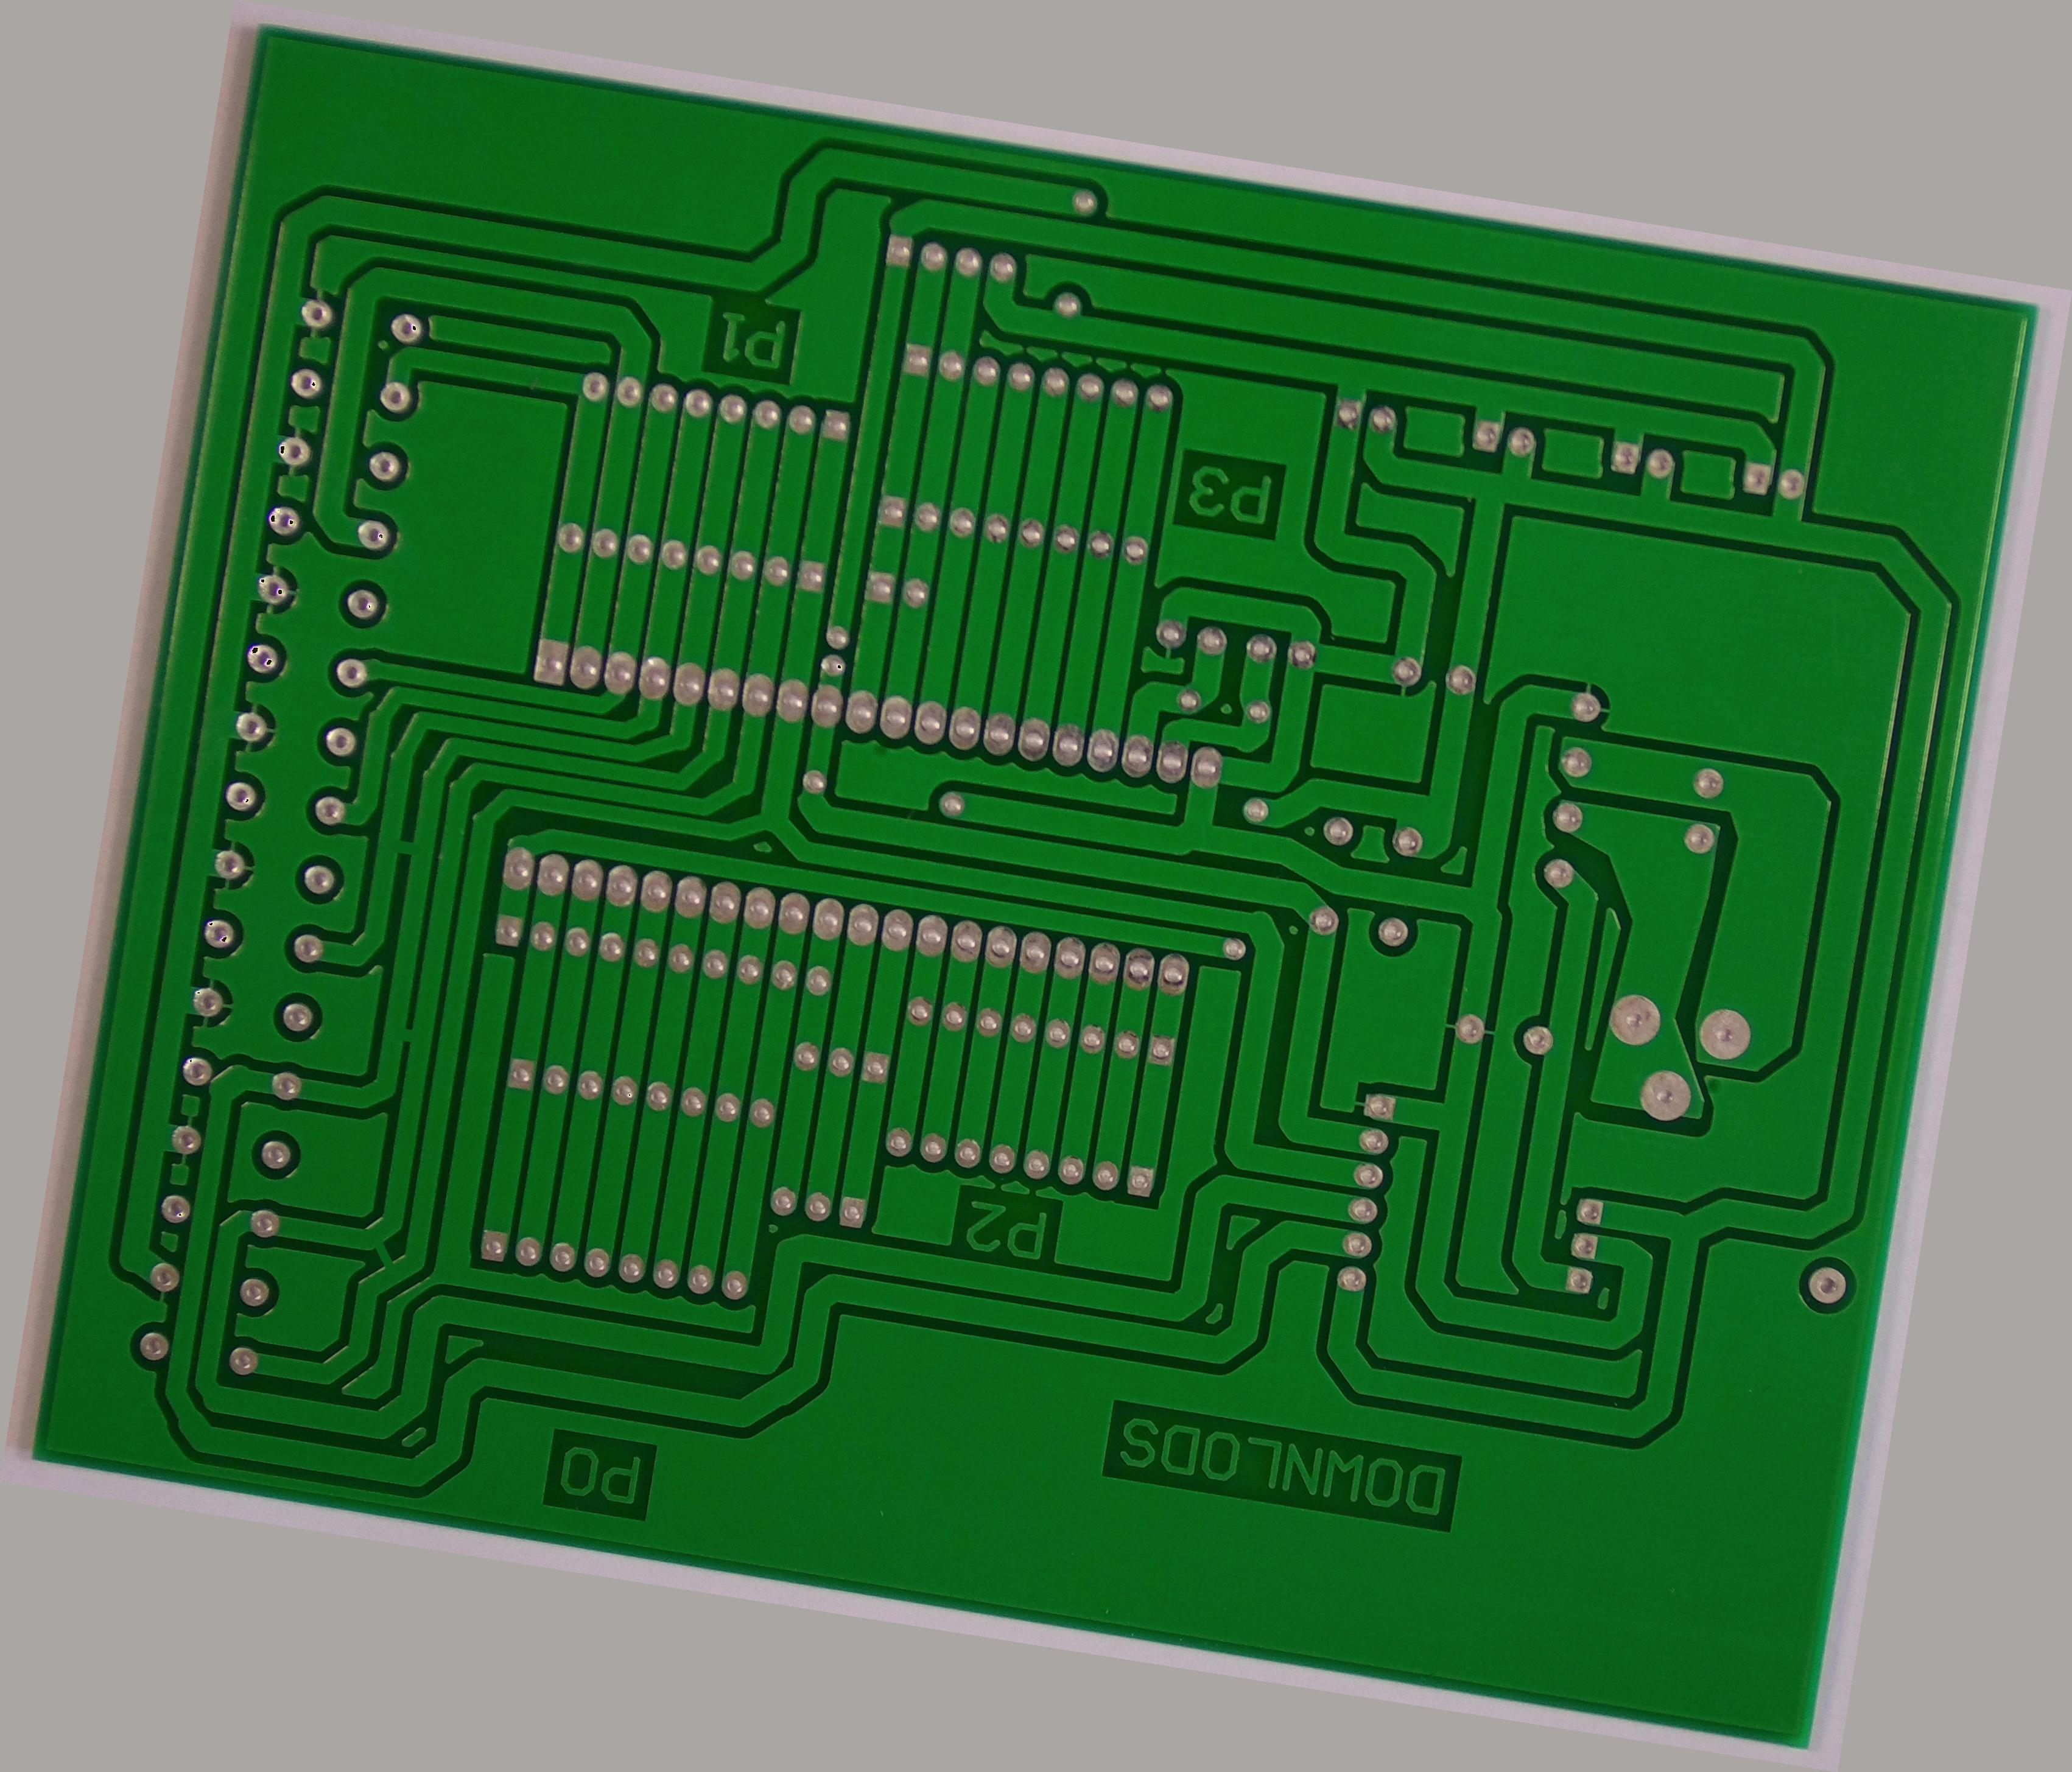short: (341, 1206, 422, 1287), (371, 999, 441, 1076), (369, 814, 441, 875)
